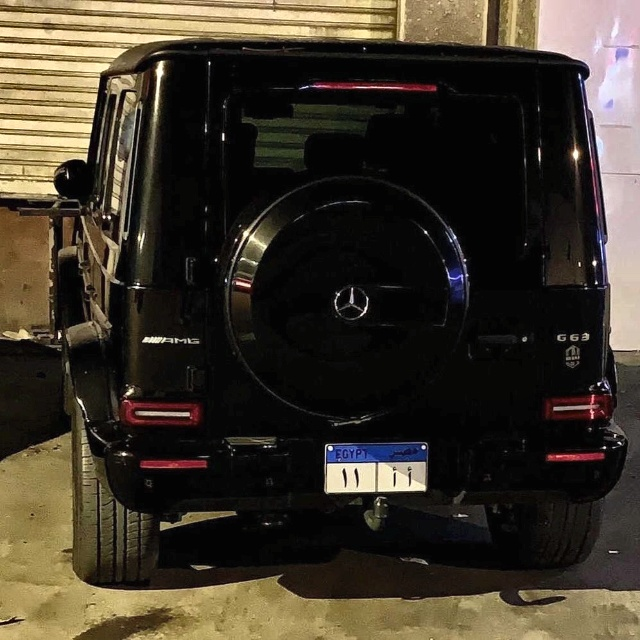License Plate: (323, 440, 430, 494)
